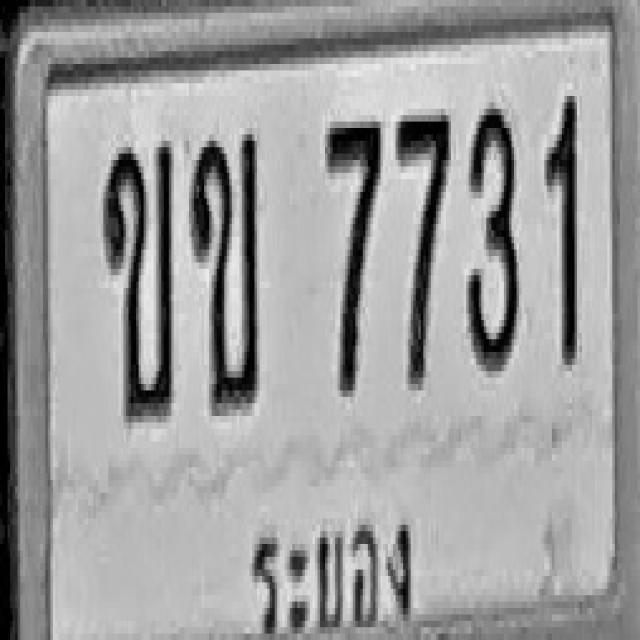1: (544, 90, 577, 364)
11KhorKhai: (102, 138, 173, 419), (190, 128, 258, 410)
3: (466, 102, 519, 372)
7: (325, 115, 381, 397), (396, 106, 451, 387)
Rayong: (248, 496, 415, 639)
